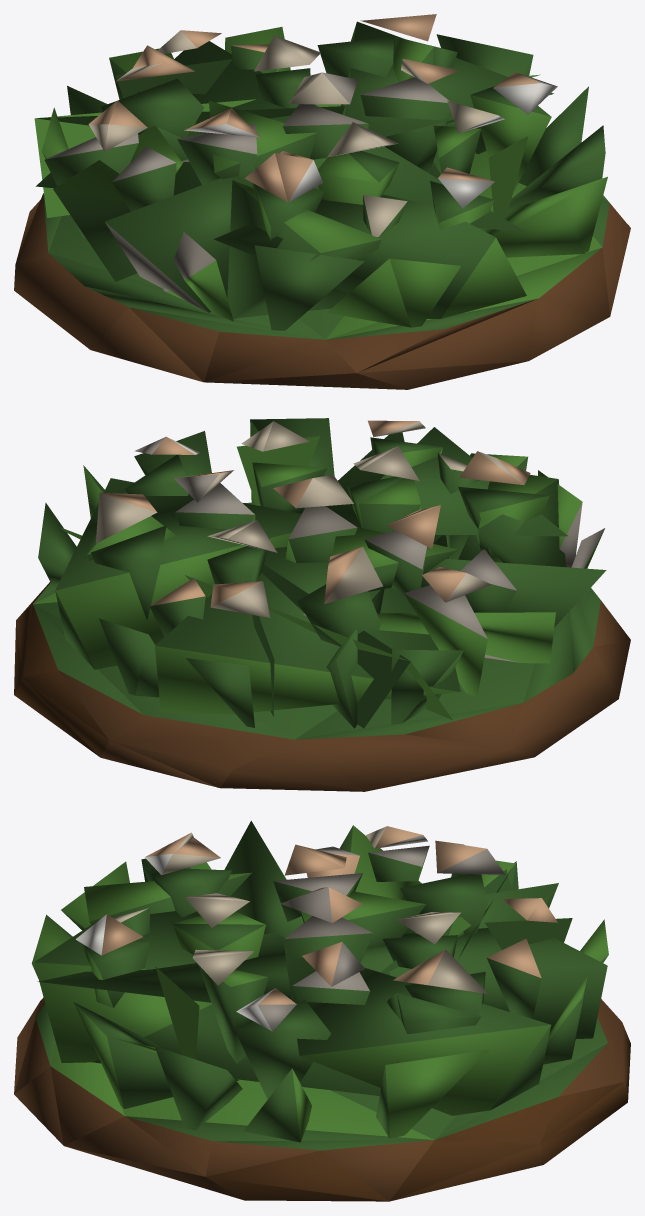
Rendered from prop.flowers.glb.
3 renders of one model, top to bottom at view 1: azimuth 30°, elevation 25°; view 2: azimuth 150°, elevation 25°; view 3: azimuth 270°, elevation 25°, orthographic.
Parts seen in each view (by area): view 1: asset; view 2: asset; view 3: asset.
Boxes of the visible parts, x1=… form: asset: x1=14, y1=14, x2=630, y2=389; asset: x1=14, y1=418, x2=630, y2=791; asset: x1=14, y1=820, x2=630, y2=1201.
Size of the model in its own units: 1.06 by 0.35 by 1.06.
